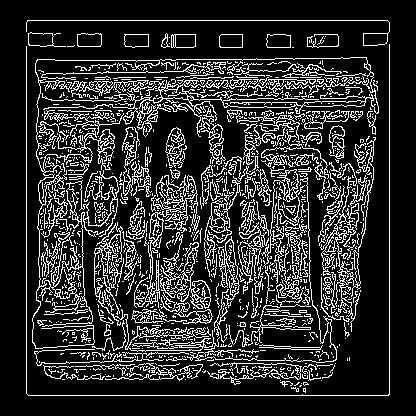buddha-sitting: (75, 194, 172, 224)
